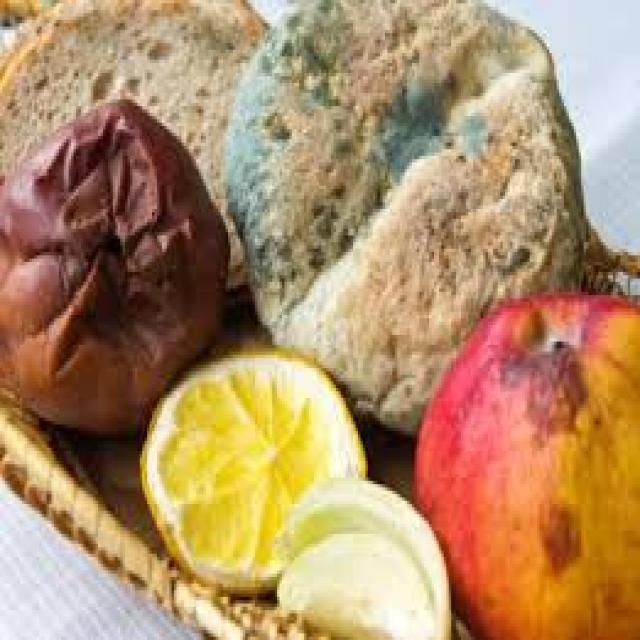organic waste: (223, 0, 586, 438), (0, 0, 287, 305), (412, 282, 638, 637), (0, 97, 226, 434), (135, 341, 370, 587), (270, 471, 453, 637), (0, 0, 39, 17)
